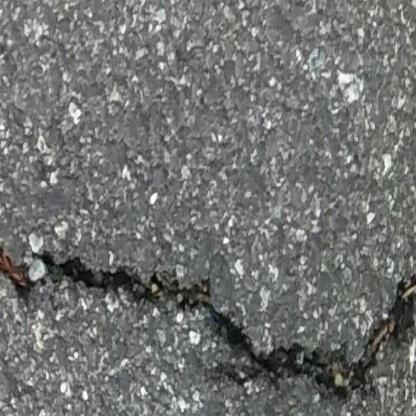Cracks: (0, 231, 416, 404)
